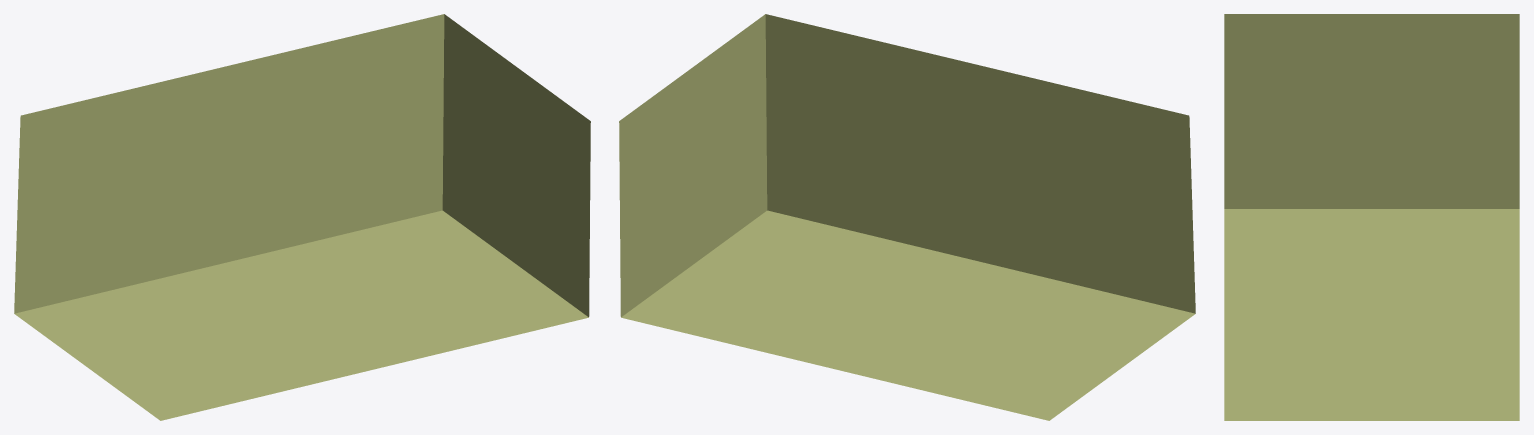
3 renders of one model, left to right at view 1: azimuth 30°, elevation 25°; view 2: azimuth 150°, elevation 25°; view 3: azimuth 270°, elevation 25°, orthographic.
Visible parts, largest first — view 1: 0_2_2_0_0_1_0_3_3_0; view 2: 0_2_2_0_0_1_0_3_3_0; view 3: 0_2_2_0_0_1_0_3_3_0.
Boxes of the visible parts, x1,y1,x2,y2 form: 0_2_2_0_0_1_0_3_3_0: [14, 14, 590, 420]; 0_2_2_0_0_1_0_3_3_0: [619, 14, 1195, 420]; 0_2_2_0_0_1_0_3_3_0: [1224, 14, 1519, 420].
Bounding box in the file's own units: 10.18 × 4.47 × 6.
